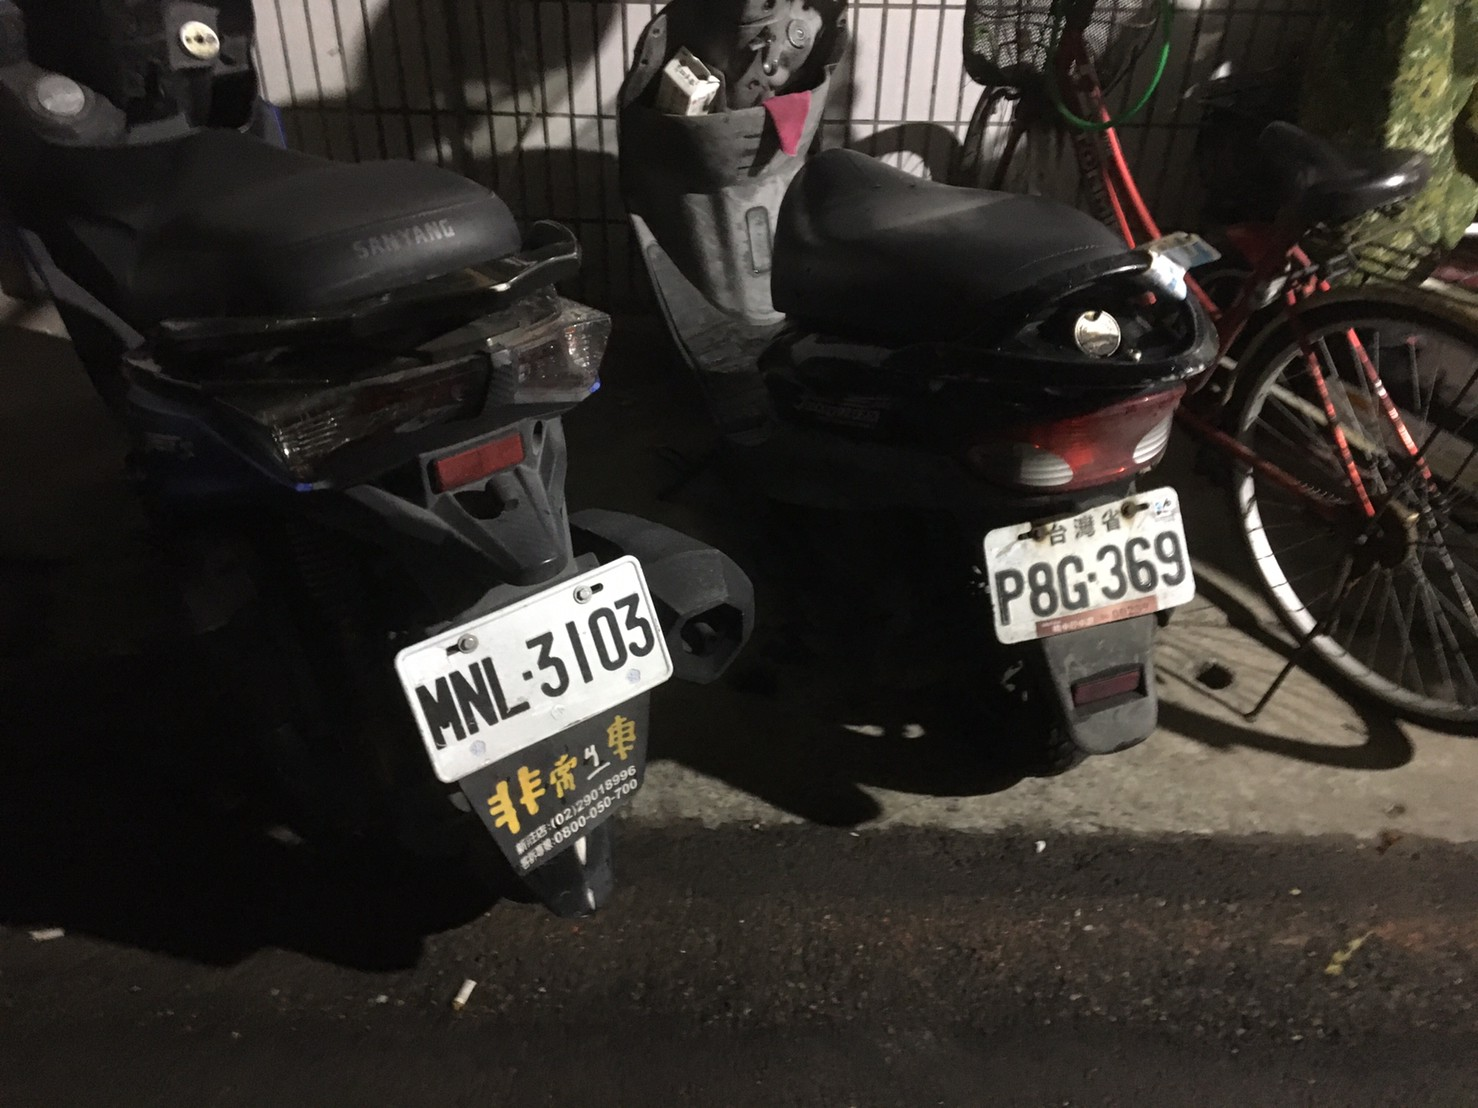LP: (408, 585, 660, 760), (982, 498, 1191, 638)
